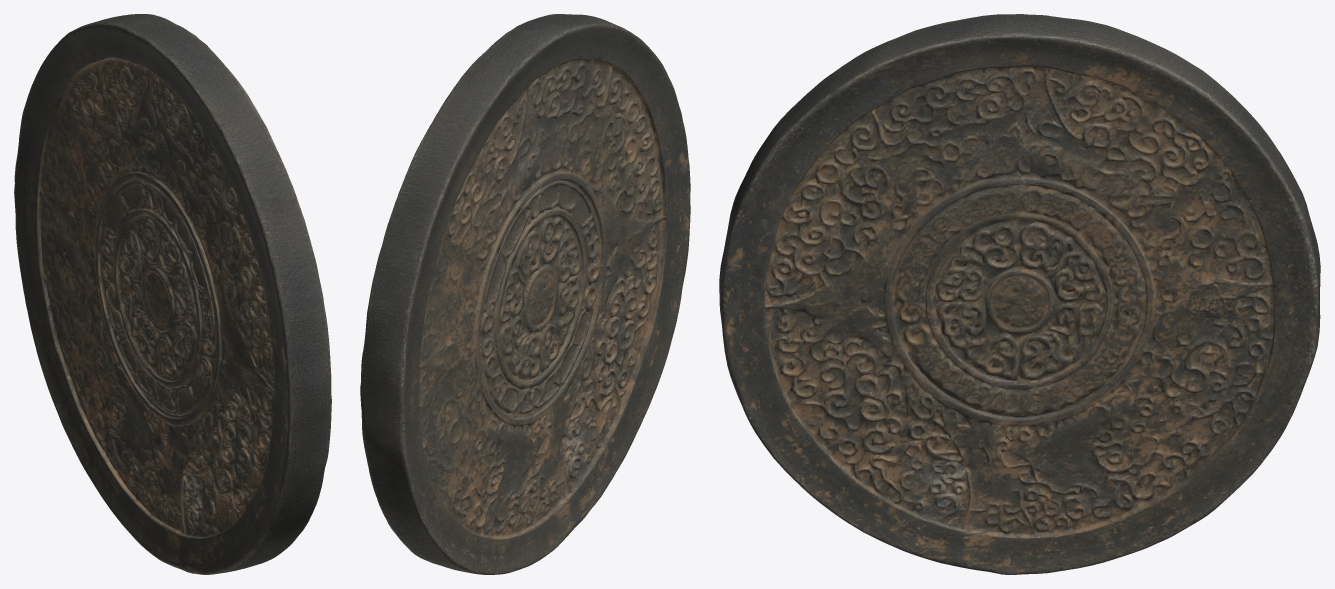
The picture shows the model from 3 angles, left to right: view 1: azimuth 30°, elevation 25°; view 2: azimuth 150°, elevation 25°; view 3: azimuth 270°, elevation 25°; orthographic projection. The views are drawn at different scales.
Visible parts, largest first — view 1: tripo_node_41baae56-c336-49bb-b2ed-756ae090fcc2; view 2: tripo_node_41baae56-c336-49bb-b2ed-756ae090fcc2; view 3: tripo_node_41baae56-c336-49bb-b2ed-756ae090fcc2.
Boxes of the visible parts, x1=… form: tripo_node_41baae56-c336-49bb-b2ed-756ae090fcc2: x1=14, y1=14, x2=331, y2=574; tripo_node_41baae56-c336-49bb-b2ed-756ae090fcc2: x1=360, y1=14, x2=690, y2=574; tripo_node_41baae56-c336-49bb-b2ed-756ae090fcc2: x1=719, y1=14, x2=1320, y2=574.
Bounding box in the file's own units: 0.0994 × 1 × 0.9975.
1 material, 1 textured.
